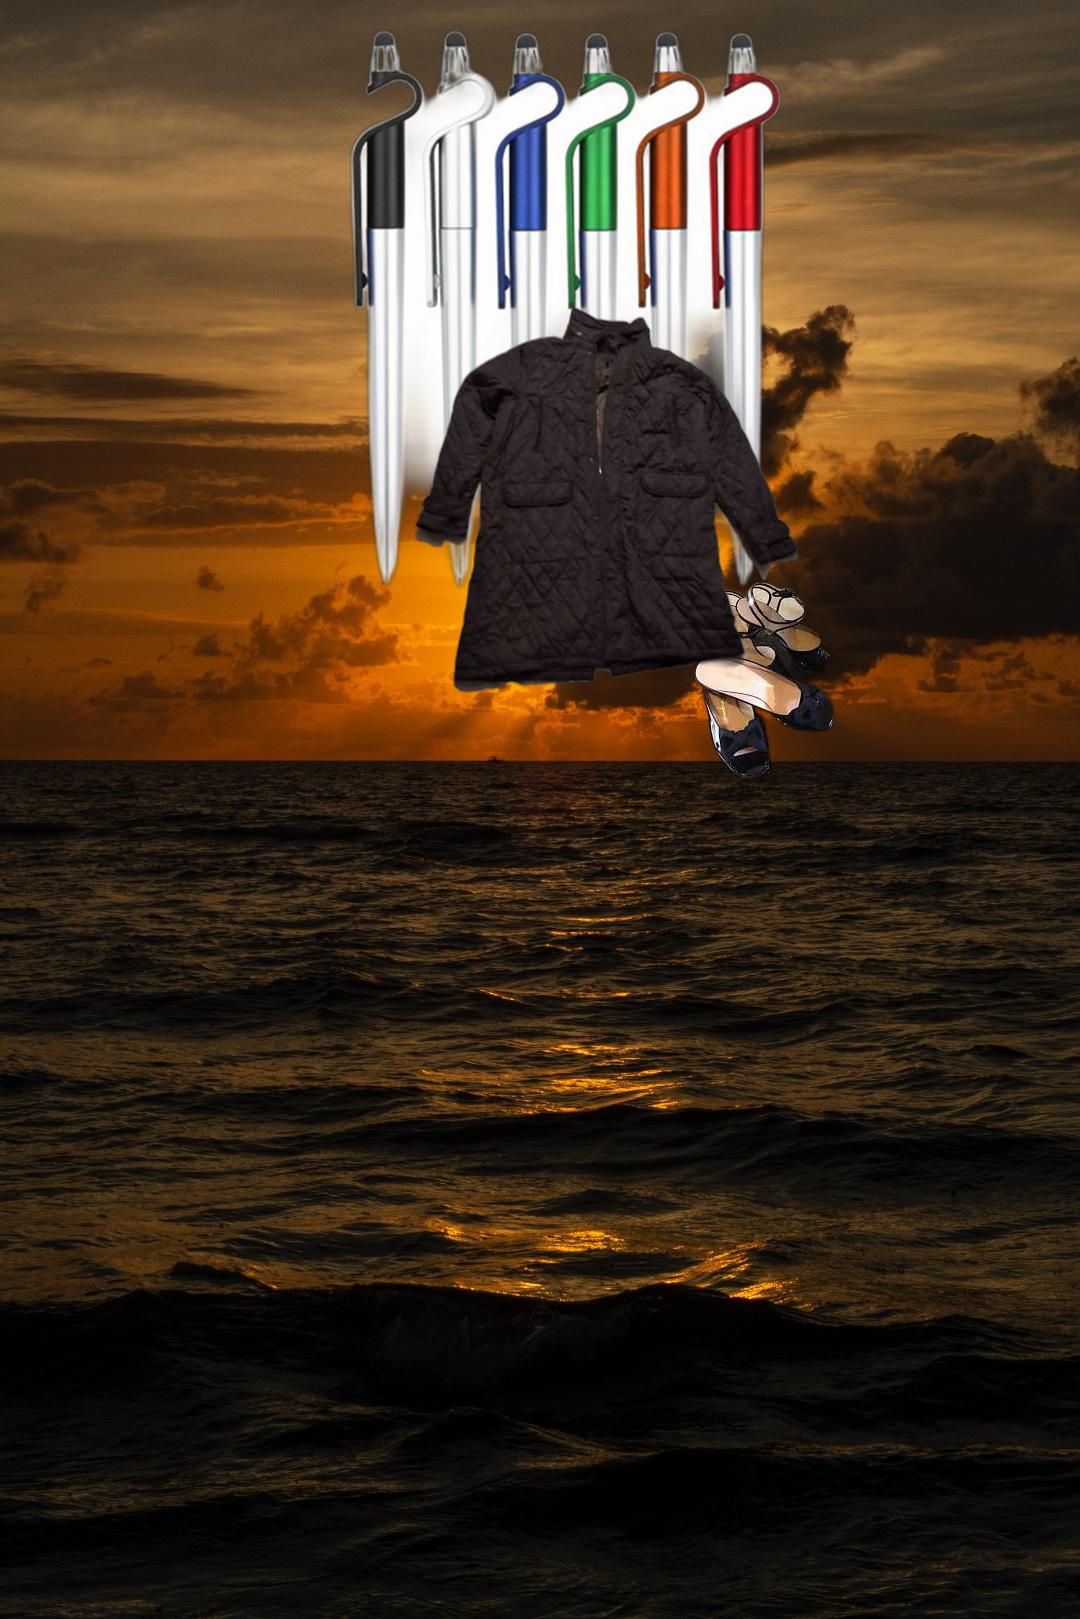clothes: (412, 303, 802, 696)
penholder: (344, 24, 932, 699)
shoes: (691, 579, 861, 784)
